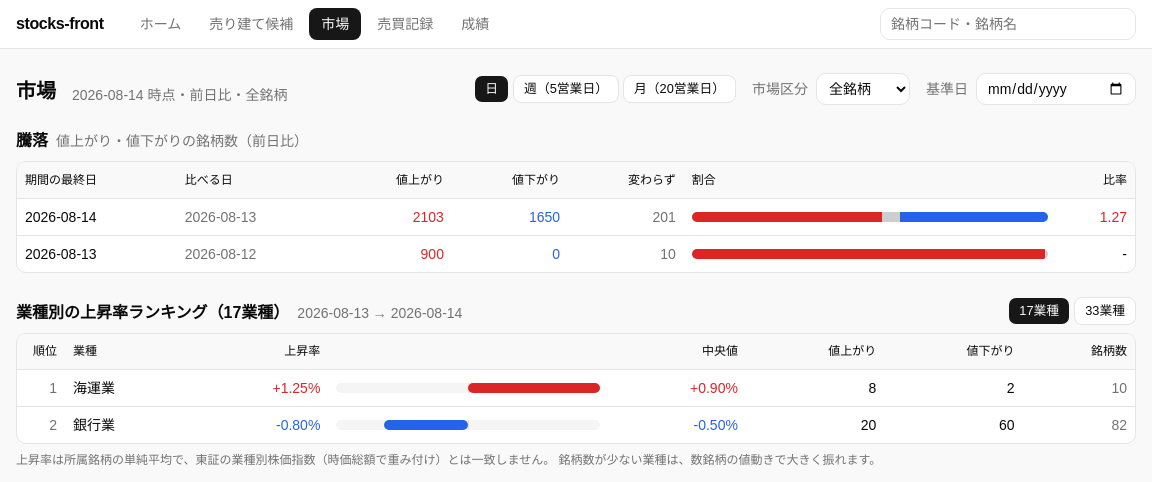
Test: 期間と市場区分を変えると、その条件でAPIを呼ぶ
The image size is (1152, 482).
Expected: the text "海運業" is shown, left=65, top=370, right=190, bottom=406
Click the button "週（5営業日）" at (566, 89), box left=513, top=75, right=619, bottom=103
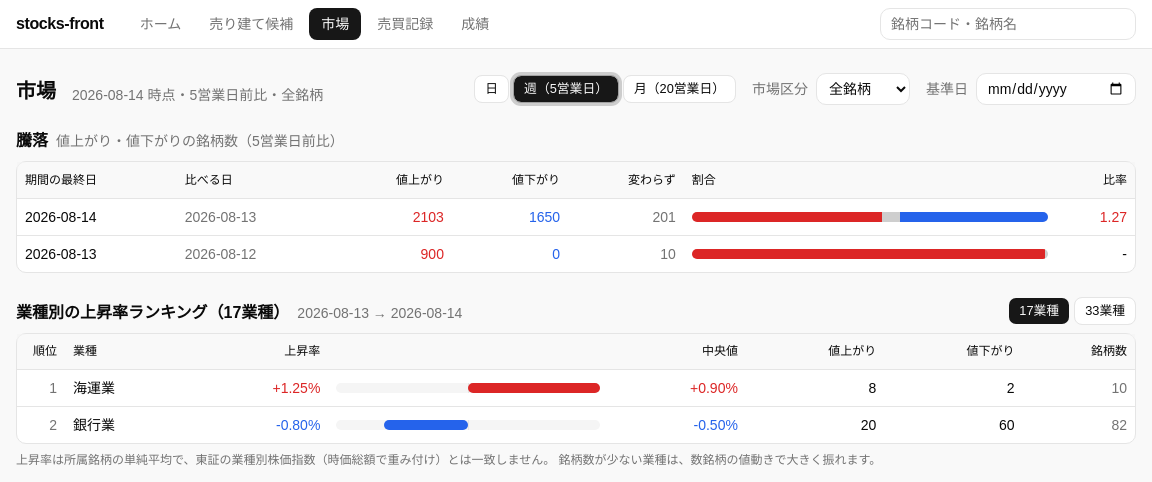
Select "プライム" in the dropdown labelled "市場区分" at (863, 89), box left=816, top=73, right=910, bottom=105
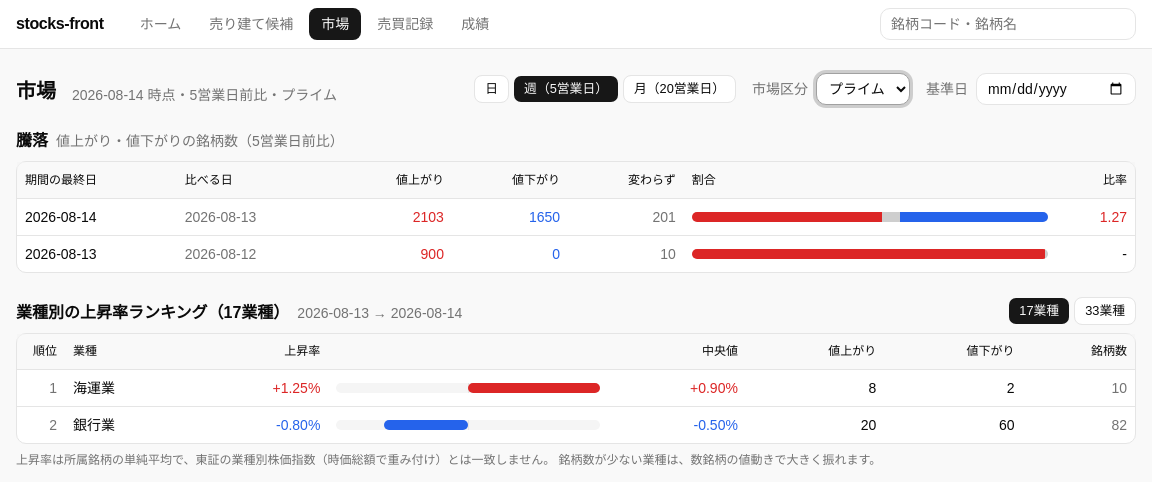
Result: the text "2026-08-14 時点・5営業日前比・プライム" is shown at left=72, top=85, right=337, bottom=105
